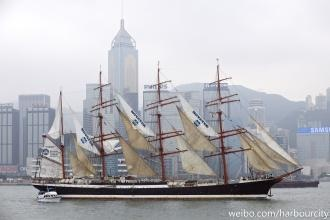fanchuan: (36, 57, 303, 199)
otherboat: (36, 189, 62, 204)
